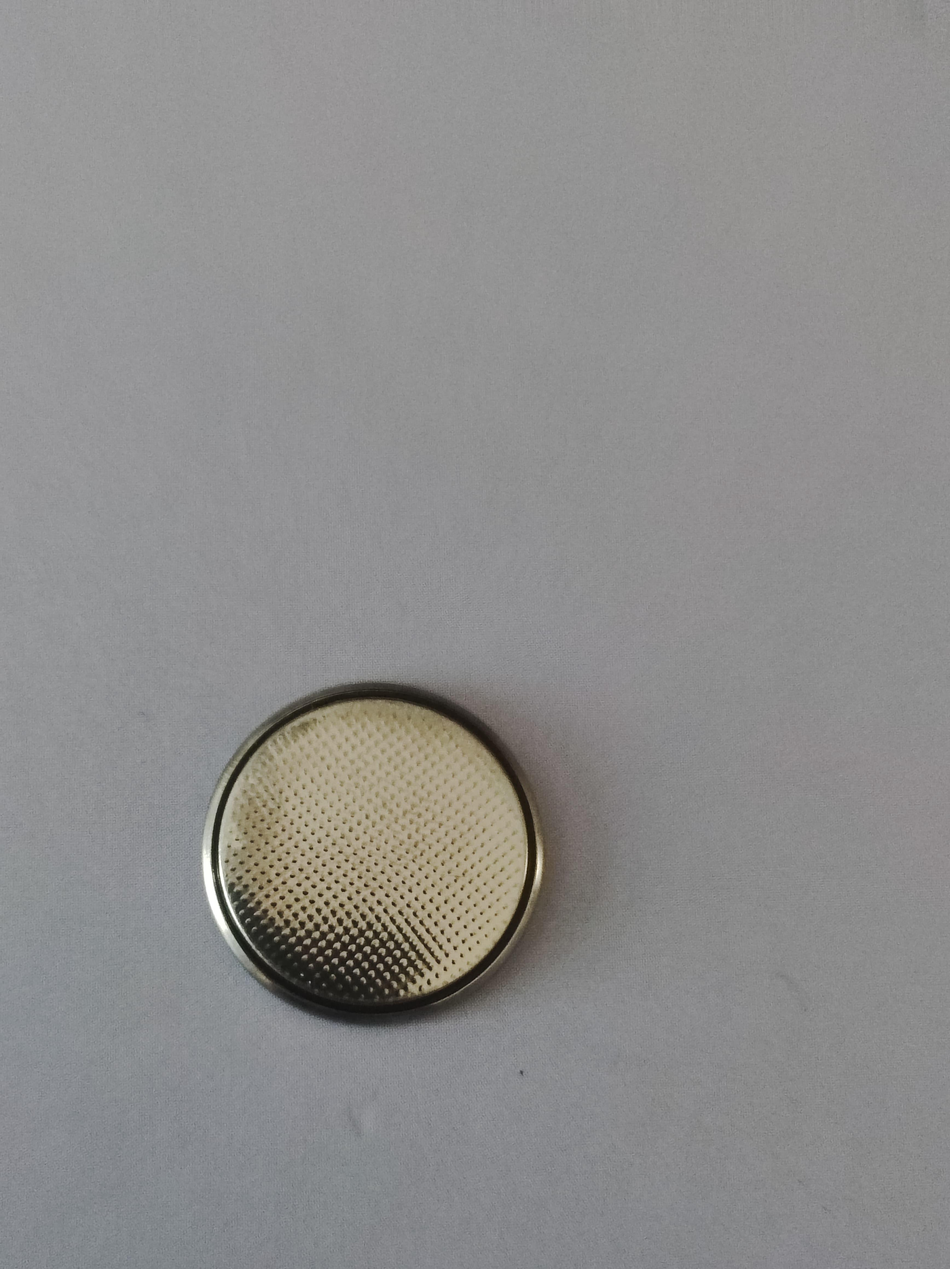COIN: (200, 680, 544, 1025)
